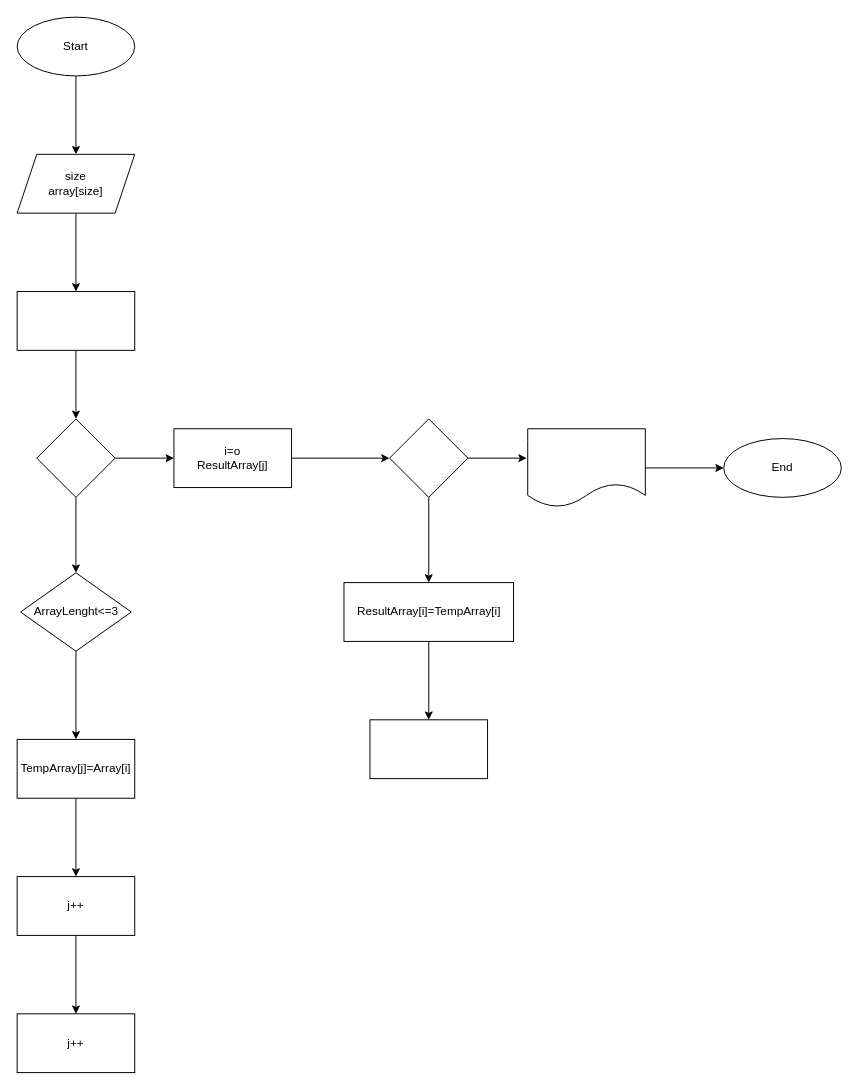
Some shapes in this 858 by 1090 pixel diagram are drawn without their labels. Each missing label, with the centre of its shape:
i++: the point at 428,749
i<j: the point at 428,457
i<size: the point at 75,457
i=0 j=0 TempArray[size]: the point at 75,320
ResultArray: the point at 586,467
